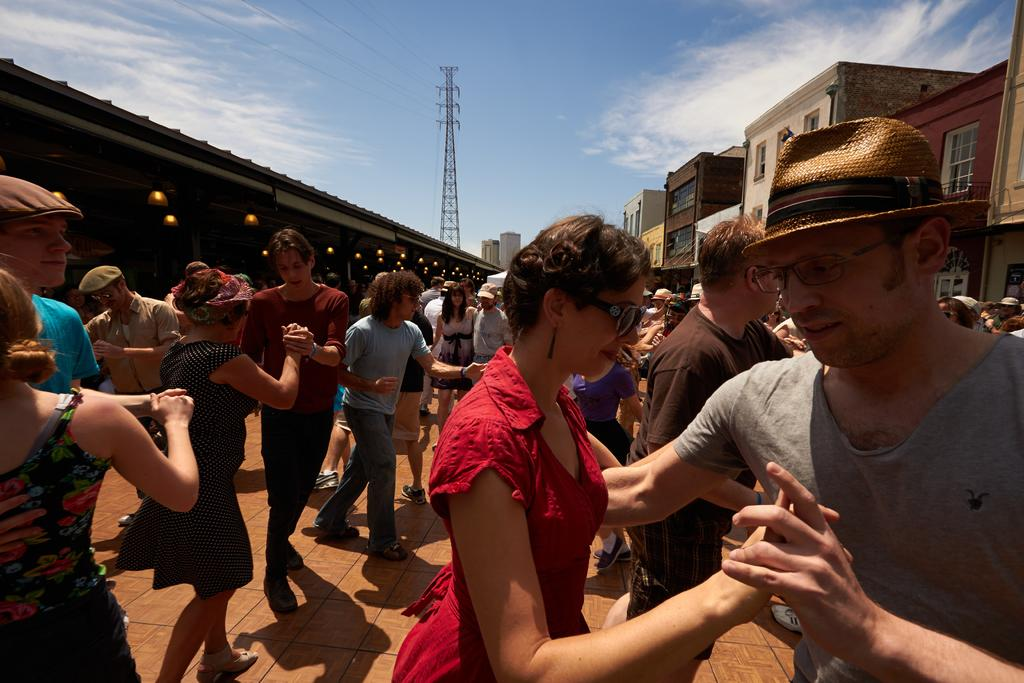Hat: (740, 115, 990, 266), (0, 175, 88, 231), (80, 262, 118, 294), (950, 293, 978, 314), (477, 278, 498, 298), (994, 295, 1020, 305), (438, 276, 454, 290)
